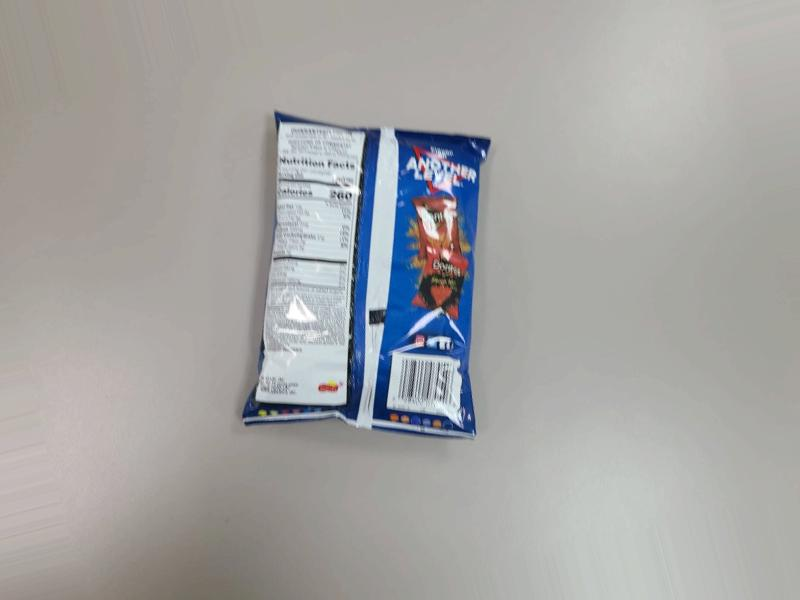doritos: (249, 120, 482, 449)
